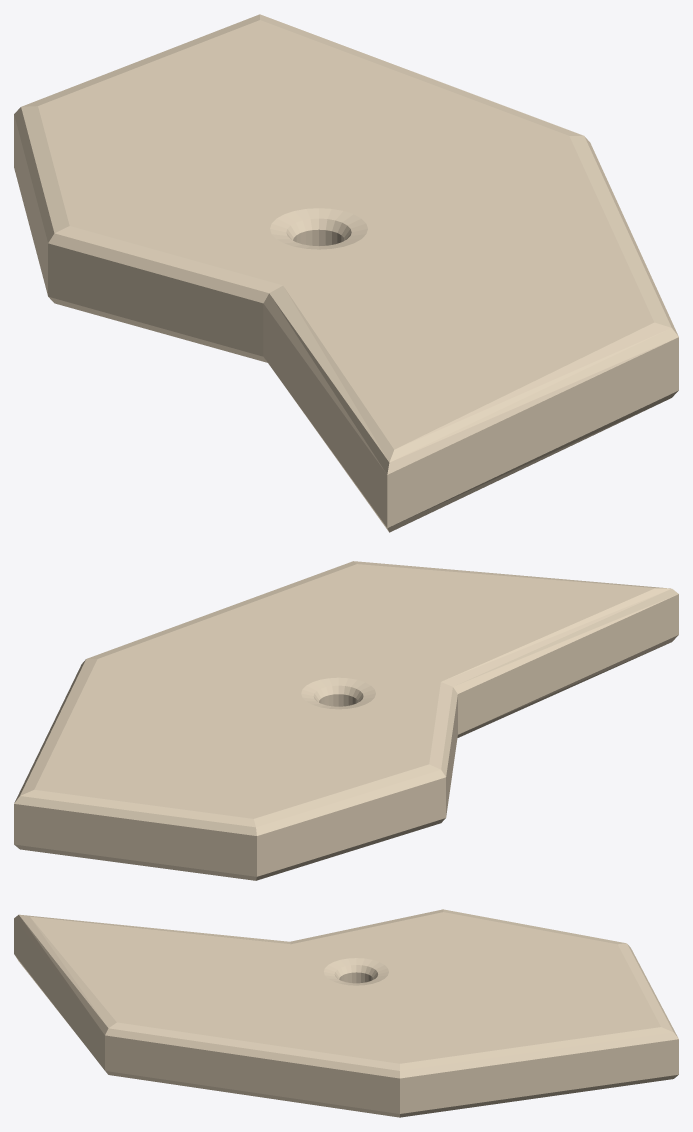
File: kidney-rib-v2.glb
The picture shows the model from 3 angles, top to bottom: view 1: azimuth 30°, elevation 25°; view 2: azimuth 150°, elevation 25°; view 3: azimuth 270°, elevation 25°; orthographic projection. The views are drawn at different scales.
Visible parts, largest first — view 1: Kidney shaping rib; view 2: Kidney shaping rib; view 3: Kidney shaping rib.
Boxes of the visible parts, box(x1,y1,x2,y2) form: Kidney shaping rib: box(14, 14, 678, 532); Kidney shaping rib: box(14, 561, 678, 880); Kidney shaping rib: box(14, 909, 678, 1117).
Size of the model in its own units: 0.1801 by 0.026 by 0.3055.
